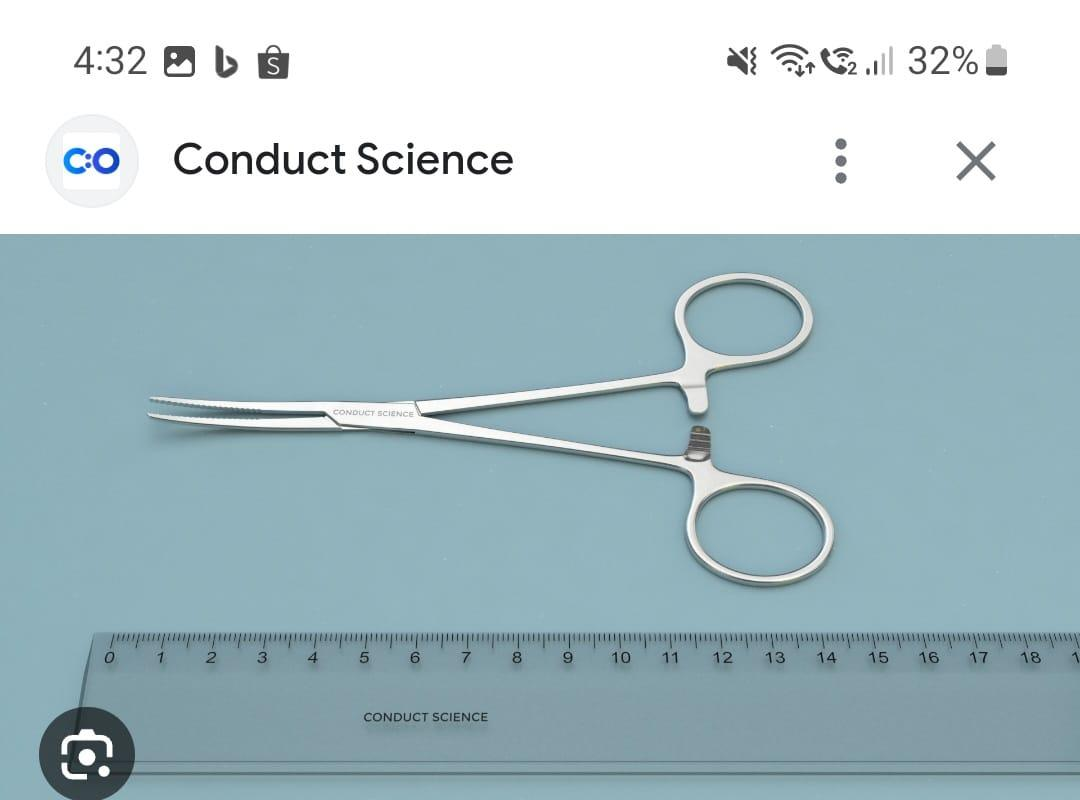Artery Forceps: (144, 261, 839, 606)
